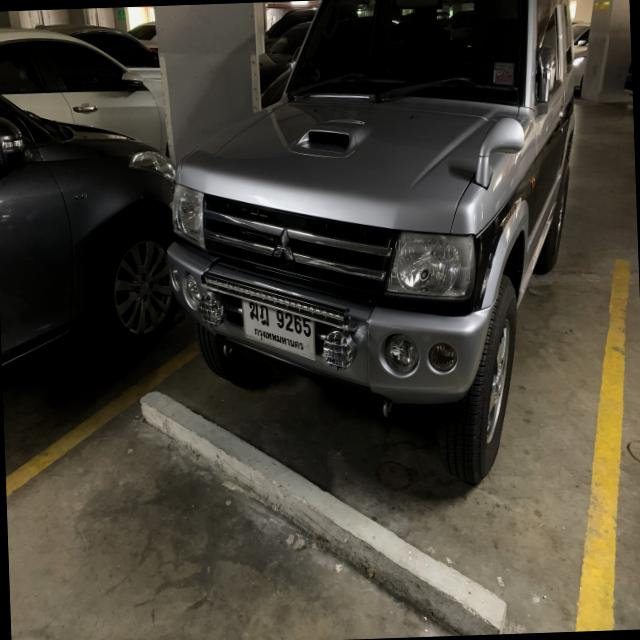license_plate: (240, 283, 318, 368)
